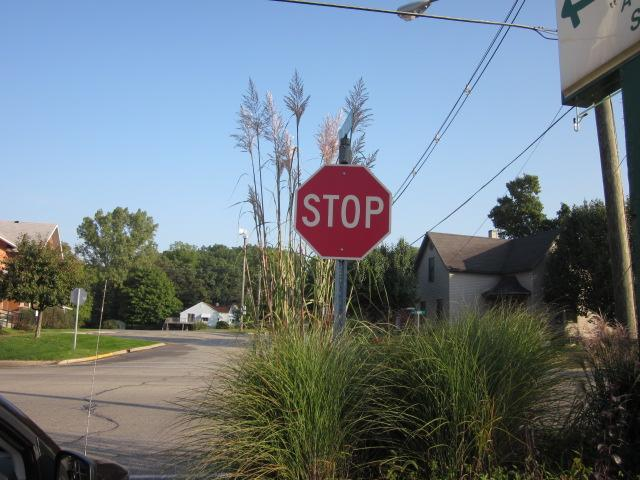stop: (292, 164, 395, 262)
